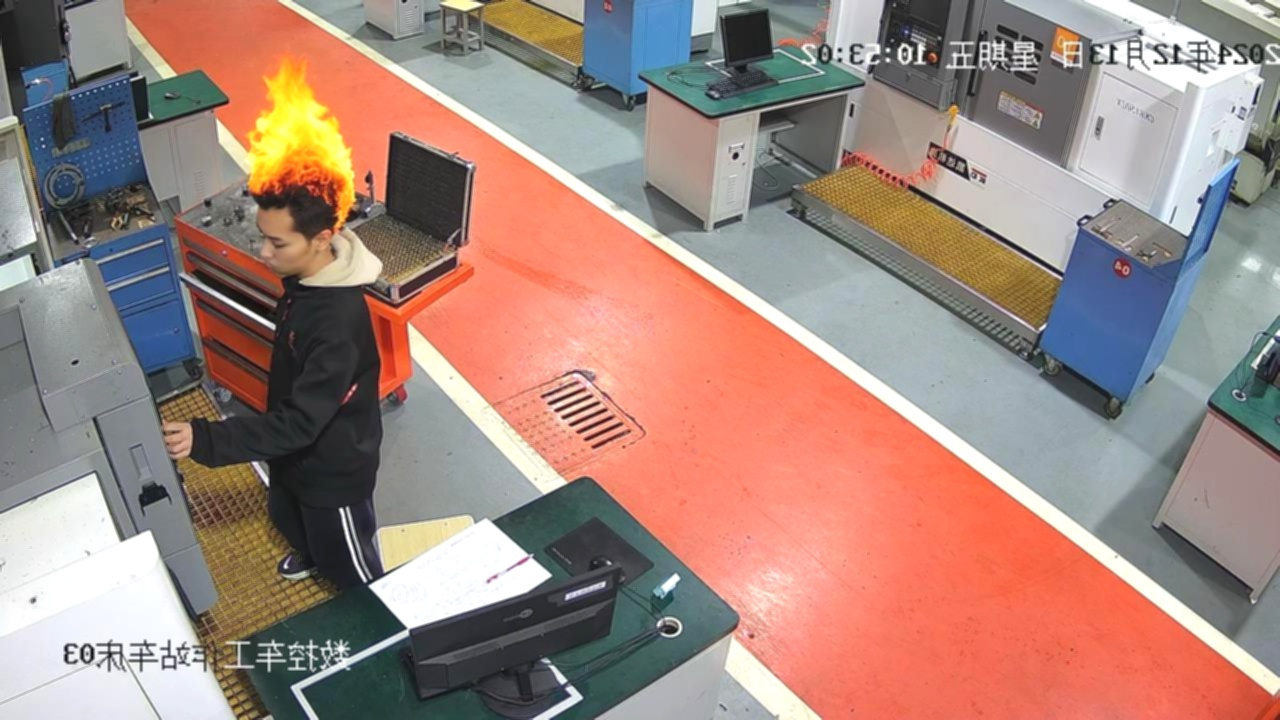fire: (220, 33, 372, 245)
